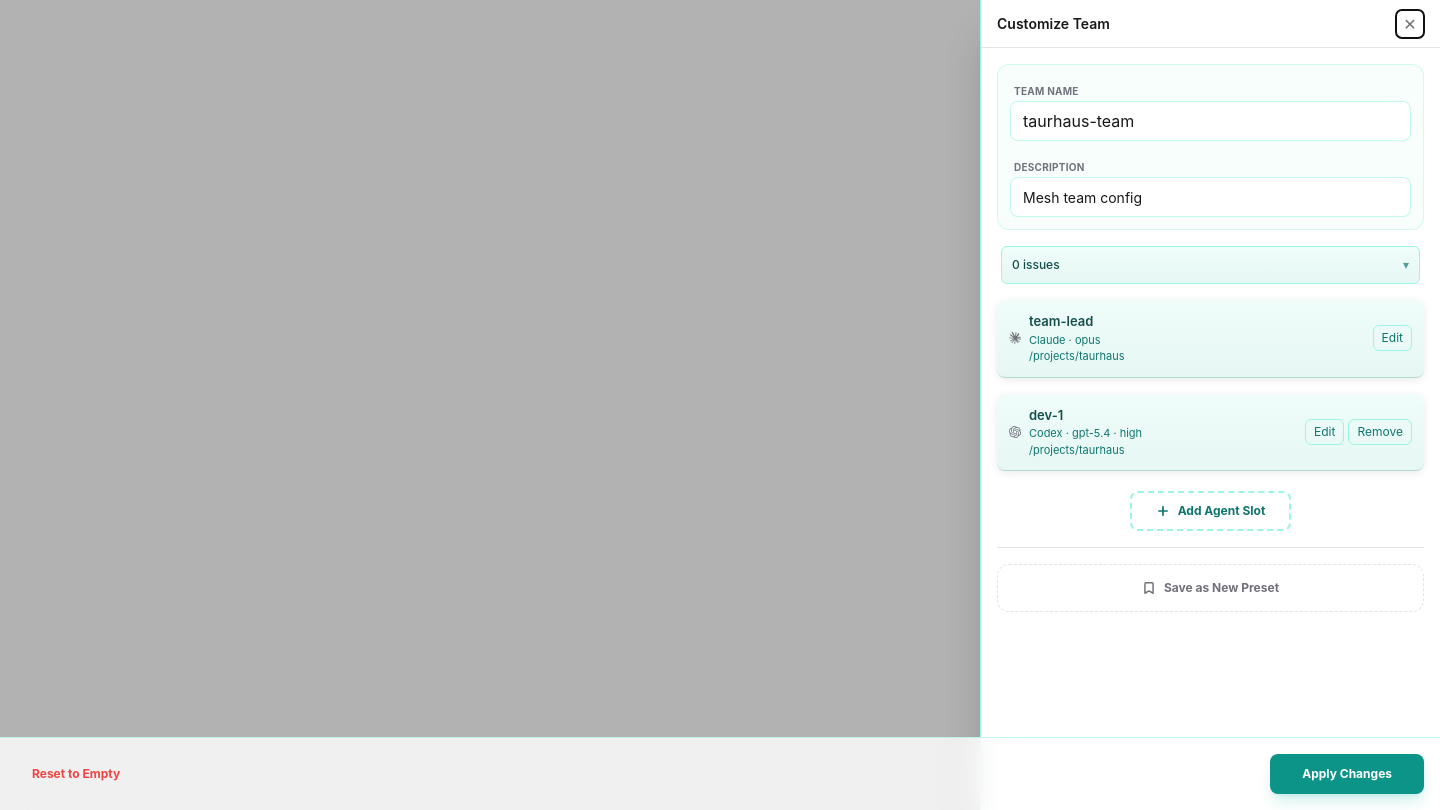
Test: TeamCustomizerPanel › rejects case-insensitive duplicate member names and disables save
This screenshot has width=1440, height=810.
Expected: the button with test id "team-customizer-save" is enabled, [1270,754,1424,794]
Click the button with test id "team-customizer-lead-edit" at (1392, 338), box [1373,325,1412,351]
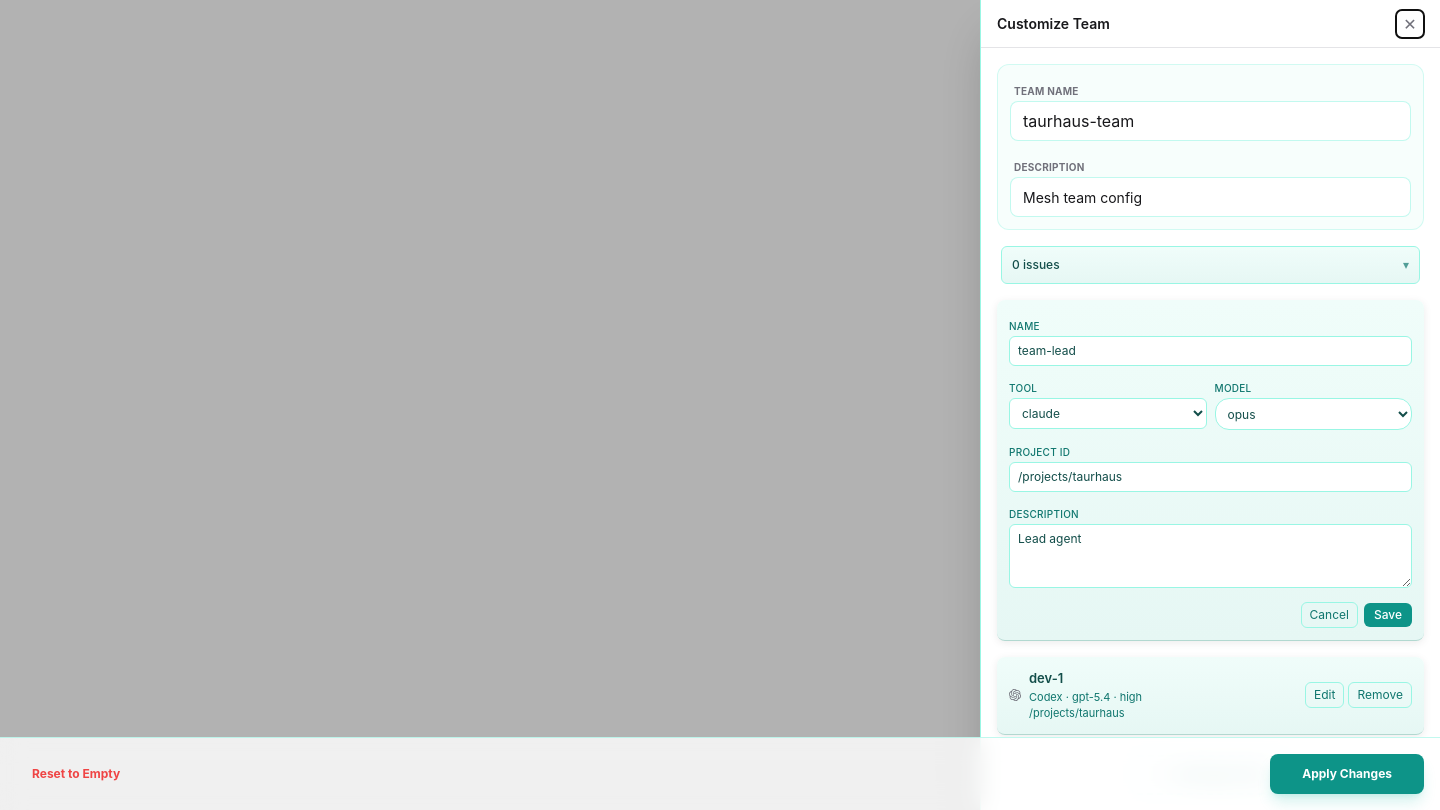
Replace the text in the field with test id "team-customizer-lead-name-input" with "  DEV-1  " at (1210, 351), box [1009,336,1412,366]
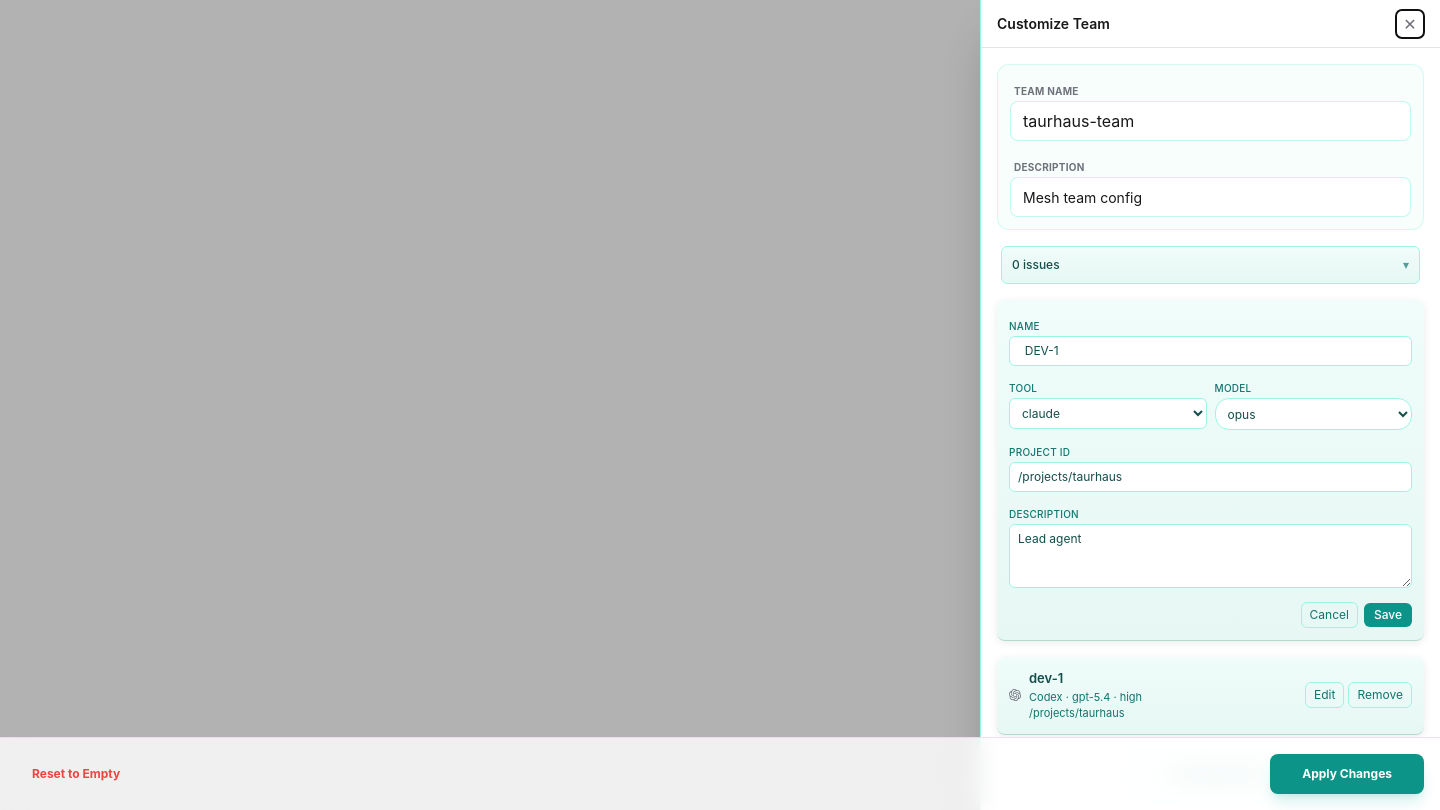
Click the button with test id "team-customizer-lead-save" at (1388, 615), box [1364,603,1412,627]
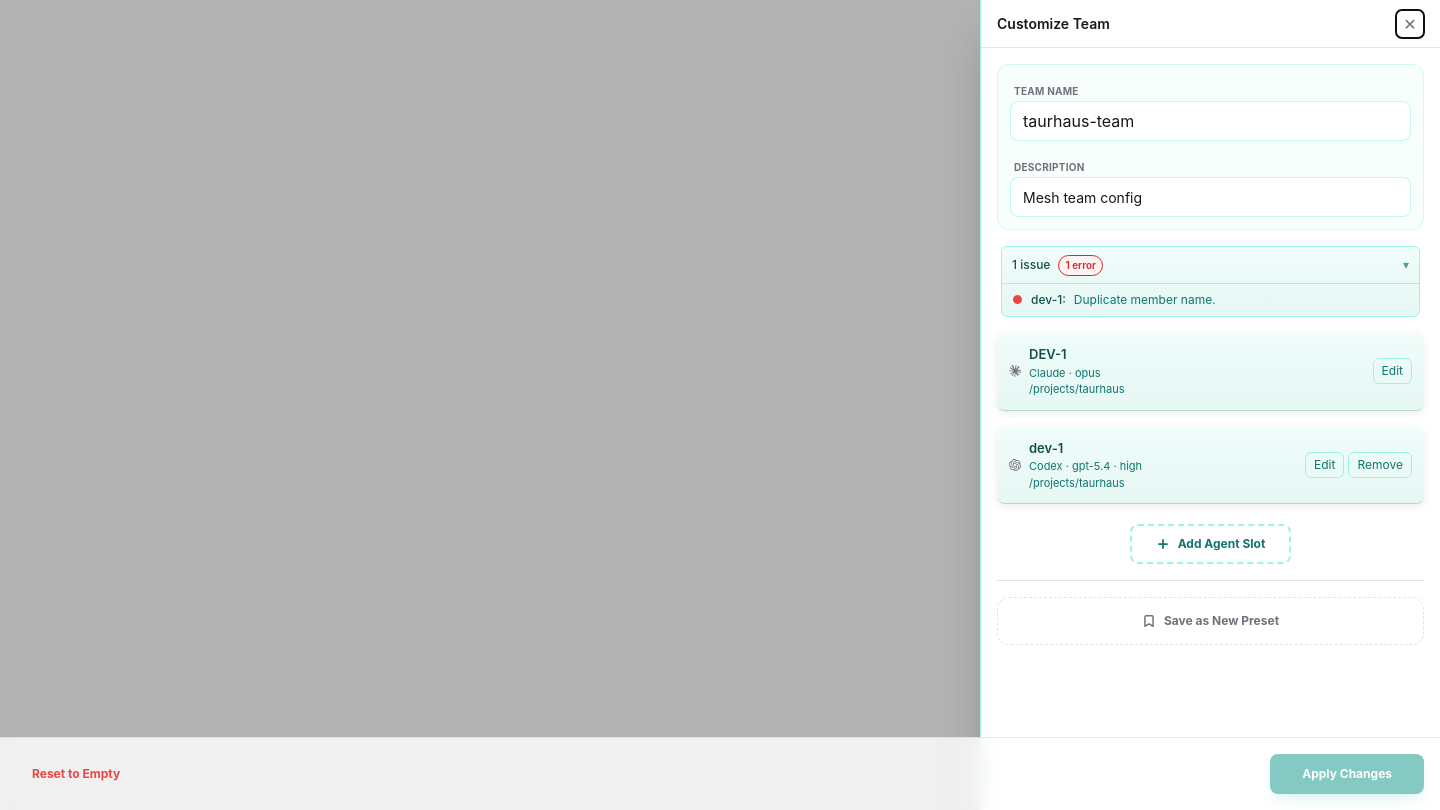
Expected: the list with test id "validation-bar-list" is shown, [1002,283,1419,316]
Expected: the text with test id "validation-bar-error-badge" reads "1 error", [1065,258,1096,270]
Expected: the list with test id "validation-bar-list" shows "Duplicate member name.", [1074,292,1216,307]
